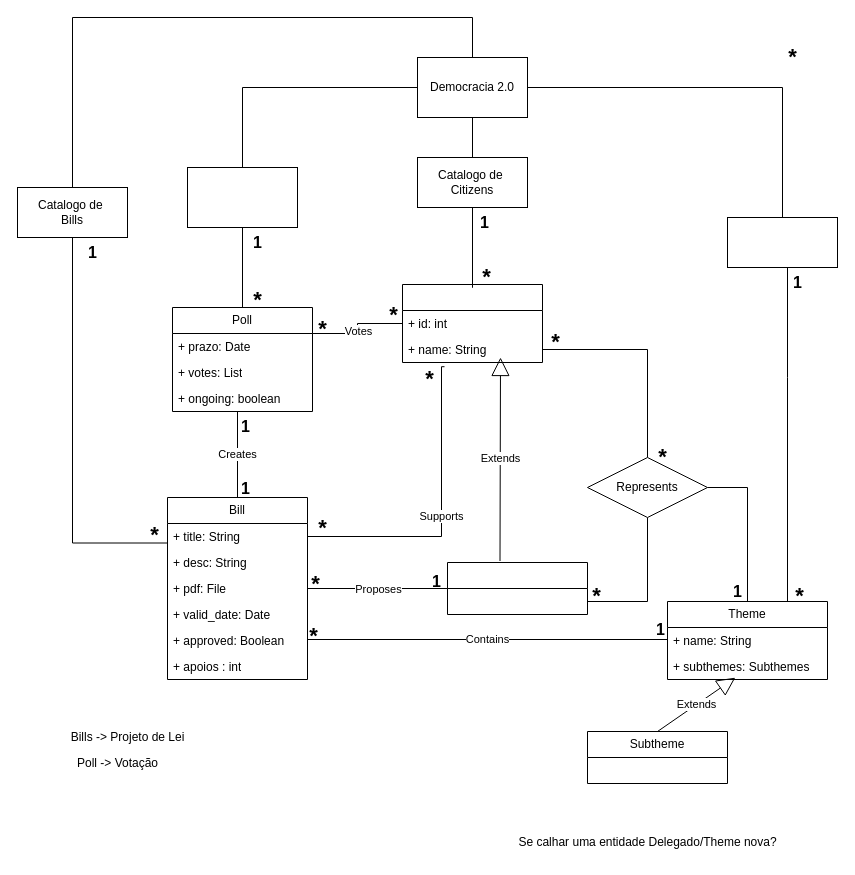
Some shapes in this 855 by 875 pixel diagram are drawn without their labels. Here are the shapes that lost their labels. From the top down, the box of each, then its label:
(186, 166, 298, 228): Catalogo de Polls
(726, 216, 838, 268): Catalogo de Themes
(402, 284, 542, 362): Citizen
(446, 562, 588, 614): Delegado
